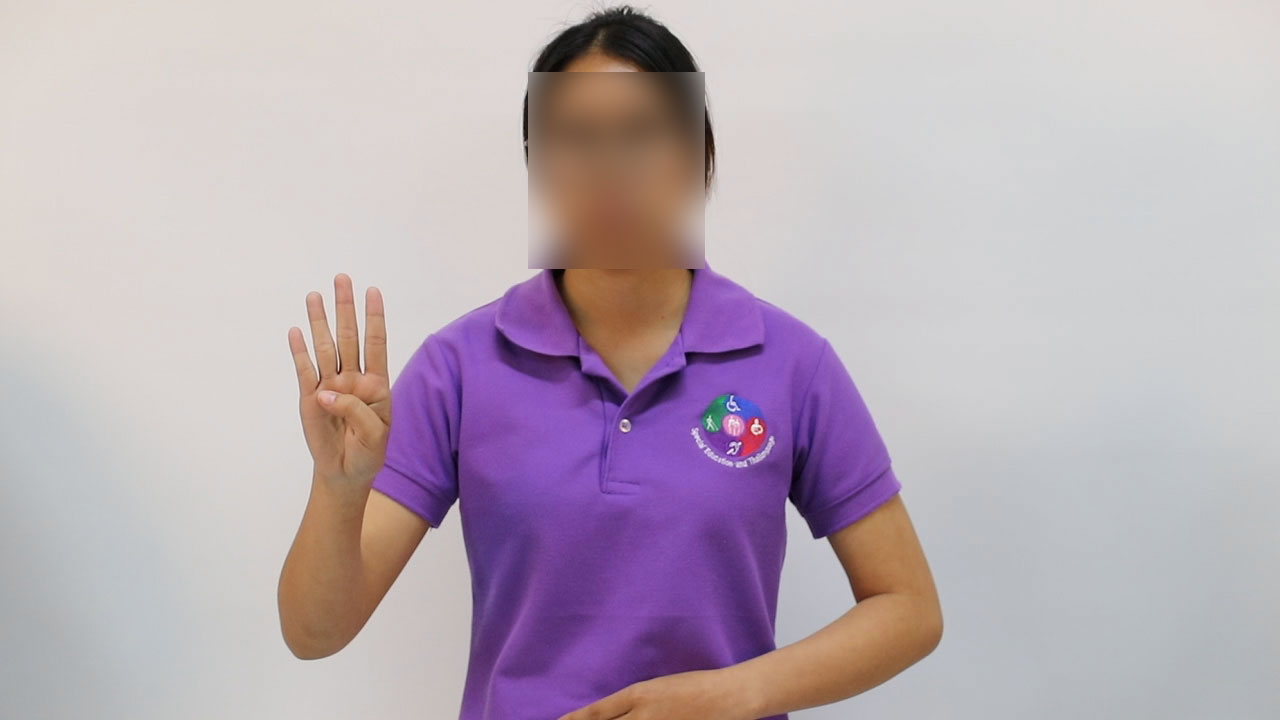bor: (273, 254, 403, 509)
